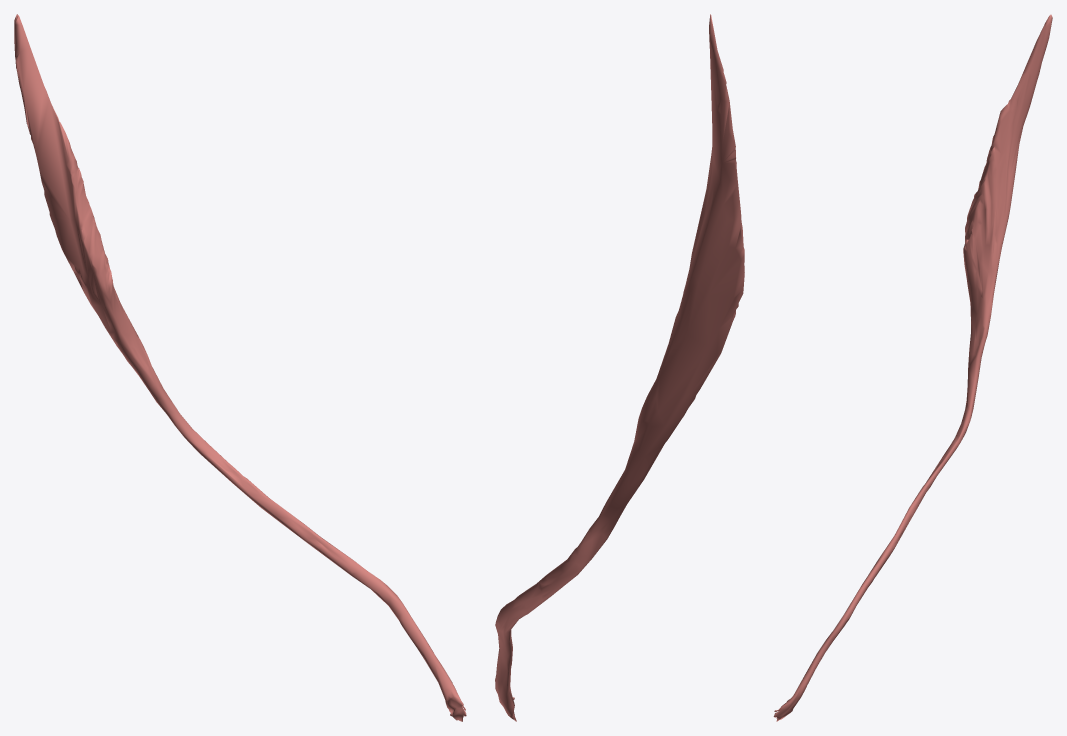
The picture shows the model from 3 angles, left to right: view 1: azimuth 30°, elevation 25°; view 2: azimuth 150°, elevation 25°; view 3: azimuth 270°, elevation 25°; orthographic projection. The views are drawn at different scales.
Parts seen in each view (by area): view 1: ZA_a966dea83e712811; view 2: ZA_a966dea83e712811; view 3: ZA_a966dea83e712811.
Boxes of the visible parts, left/top/right/bottom form: ZA_a966dea83e712811: left=14, top=14, right=466, bottom=721; ZA_a966dea83e712811: left=495, top=14, right=744, bottom=721; ZA_a966dea83e712811: left=773, top=14, right=1052, bottom=721.
Size of the model in its own units: 0.0983 by 0.2091 by 0.0906.
